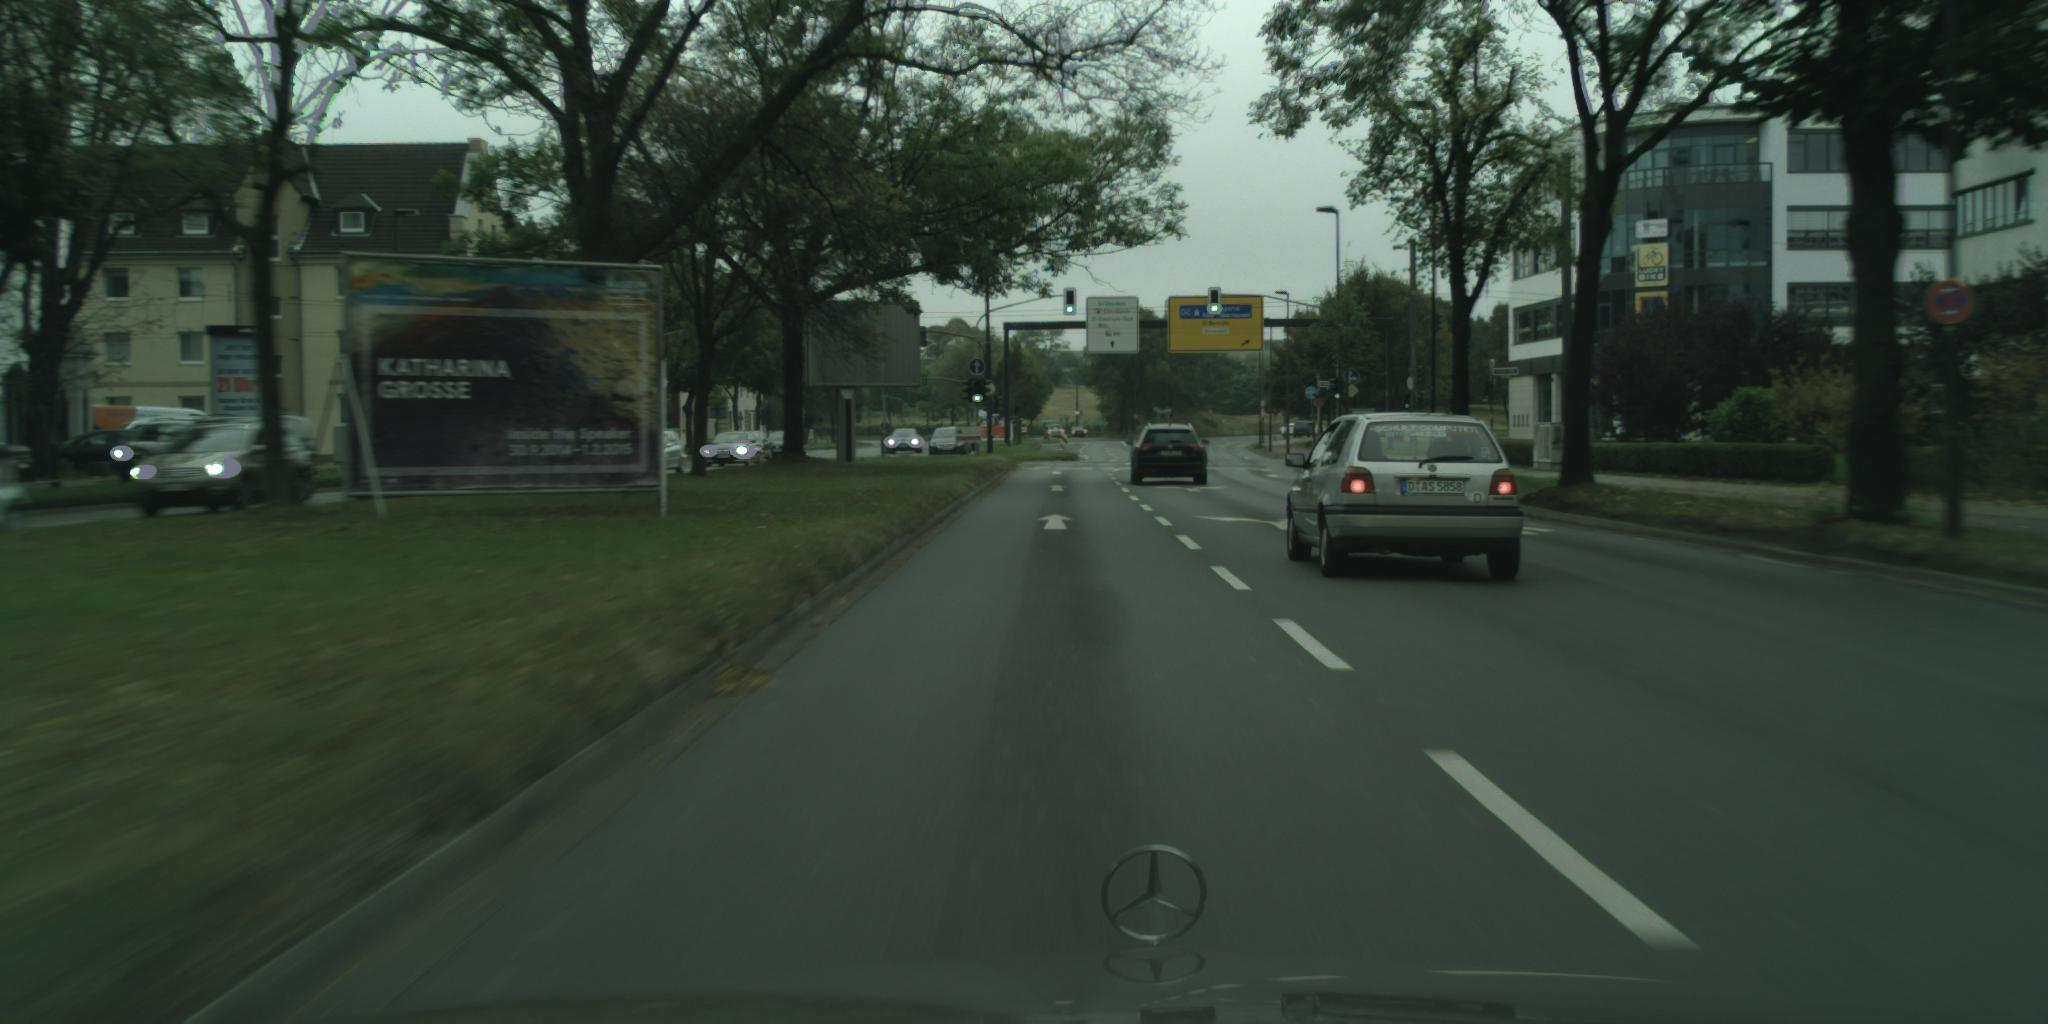car: (1285, 414, 1526, 585), (132, 417, 317, 519), (91, 406, 216, 451), (1126, 424, 1211, 486), (700, 432, 761, 469), (654, 428, 684, 478), (930, 430, 977, 458), (884, 428, 926, 456), (743, 434, 773, 462), (767, 432, 795, 456), (1046, 424, 1068, 441), (1070, 427, 1088, 438)
